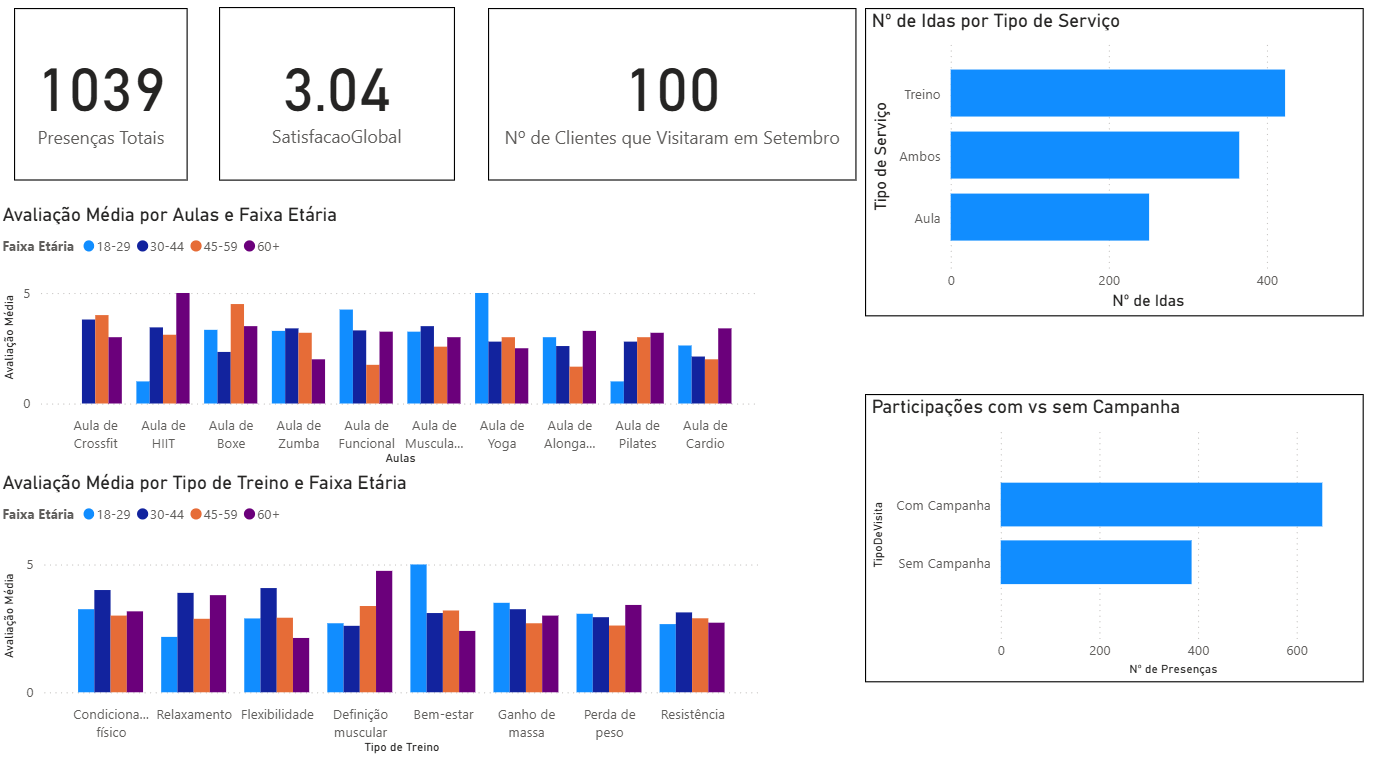

Layout of this report page (visuals, bound fields, positions):
{"tool":"powerbi","page":{"name":"Painel Global de KPIs","canvas":[1280,720],"ordinal":4},"visuals":[{"type":"card","fields":{"Values":["easyfit_dw dim_aula.PresencaTotal"]},"box":[23.4,13.5,156.3,155.4],"z":0},{"type":"clusteredColumnChart","fields":{"Category":["easyfit_dw dim_aula.aula_nome"],"Series":["easyfit_dw dim_cliente.cliente_faixa_etaria"],"Y":["Avg(easyfit_dw tf_cliente.avaliacao_aula)"]},"box":[8.3,188.8,689.7,240.3],"z":2000},{"type":"clusteredColumnChart","fields":{"Category":["easyfit_dw dim_treino.treino_objetivo"],"Series":["easyfit_dw dim_cliente.cliente_faixa_etaria"],"Y":["Avg(easyfit_dw tf_cliente.avaliacao_treino)"]},"box":[8.3,429.1,689.7,258.8],"z":3000},{"type":"barChart","fields":{"Y":["CountNonNull(easyfit_dw tf_cliente.fact_id)"],"Category":["easyfit_dw tf_cliente.TipoDeServico"]},"box":[787.8,13.5,448.2,276.7],"z":4000},{"type":"card","fields":{"Values":["easyfit_dw dim_aula.ClientesUnicos"]},"box":[449.1,13.5,331.5,155.4],"z":5000},{"type":"barChart","title":"Participações com vs sem Campanha","fields":{"Y":["CountNonNull(easyfit_dw tf_cliente.fact_id)"],"Category":["easyfit_dw tf_cliente.TipoDeVisita"]},"box":[787.8,360.2,448.2,258.7],"z":6000},{"type":"card","fields":{"Values":["easyfit_dw dim_aula.SatisfacaoGlobal"]},"box":[207.5,12.6,212,156.3],"z":6001}]}

Visuals, with their boxes in screenshot pixels (x1, y1, x2, y2), scaled from the page's 1280x720 canvas onto the 1385x776 screenshot:
card - easyfit_dw dim_aula.PresencaTotal: l=25, t=15, r=194, b=182
clusteredColumnChart - easyfit_dw dim_aula.aula_nome x easyfit_dw dim_cliente.cliente_faixa_etaria: l=9, t=203, r=755, b=462
clusteredColumnChart - easyfit_dw dim_treino.treino_objetivo x easyfit_dw dim_cliente.cliente_faixa_etaria: l=9, t=462, r=755, b=741
barChart - CountNonNull(easyfit_dw tf_cliente.fact_id) x easyfit_dw tf_cliente.TipoDeServico: l=852, t=15, r=1337, b=313
card - easyfit_dw dim_aula.ClientesUnicos: l=486, t=15, r=845, b=182
"Participações com vs sem Campanha" barChart: l=852, t=388, r=1337, b=667
card - easyfit_dw dim_aula.SatisfacaoGlobal: l=225, t=14, r=454, b=182
